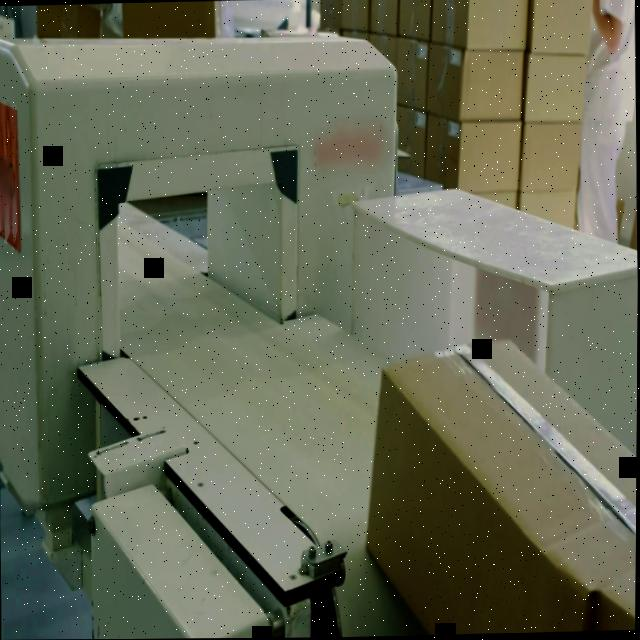box: (361, 336, 638, 637), (592, 558, 637, 632)
